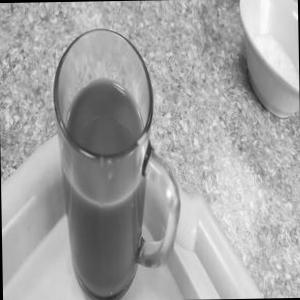coffee: (27, 19, 190, 298)
